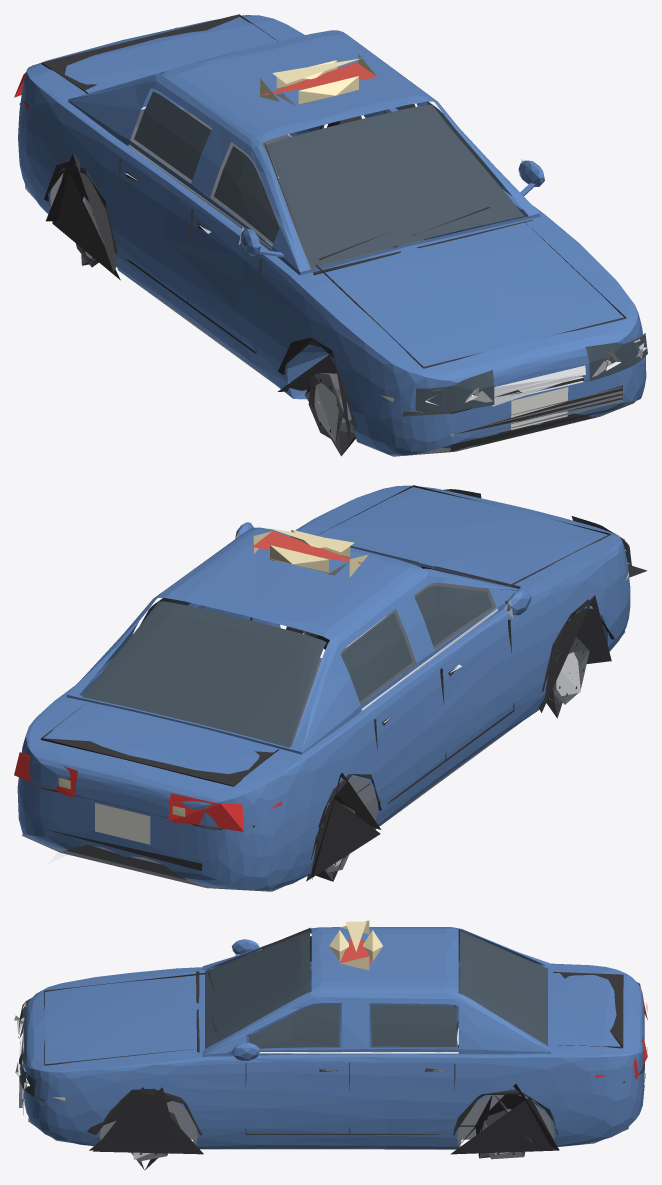
File: CarV3_Cab_L2.fbx
The picture shows the model from 3 angles, top to bottom: view 1: azimuth 30°, elevation 25°; view 2: azimuth 150°, elevation 25°; view 3: azimuth 270°, elevation 25°; orthographic projection. The views are drawn at different scales.
Visible parts, largest first — view 1: CarV3_Cab.001; view 2: CarV3_Cab.001; view 3: CarV3_Cab.001.
Boxes of the visible parts, left/top/right/bottom form: CarV3_Cab.001: left=14, top=14, right=647, bottom=456; CarV3_Cab.001: left=14, top=485, right=647, bottom=891; CarV3_Cab.001: left=14, top=920, right=647, bottom=1170.
Size of the model in its own units: 1.95 by 1.63 by 4.83.
